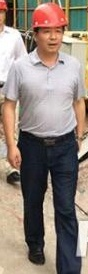boots: (6, 170, 21, 184), (0, 161, 6, 174)
hard-hat: (0, 0, 22, 34)
